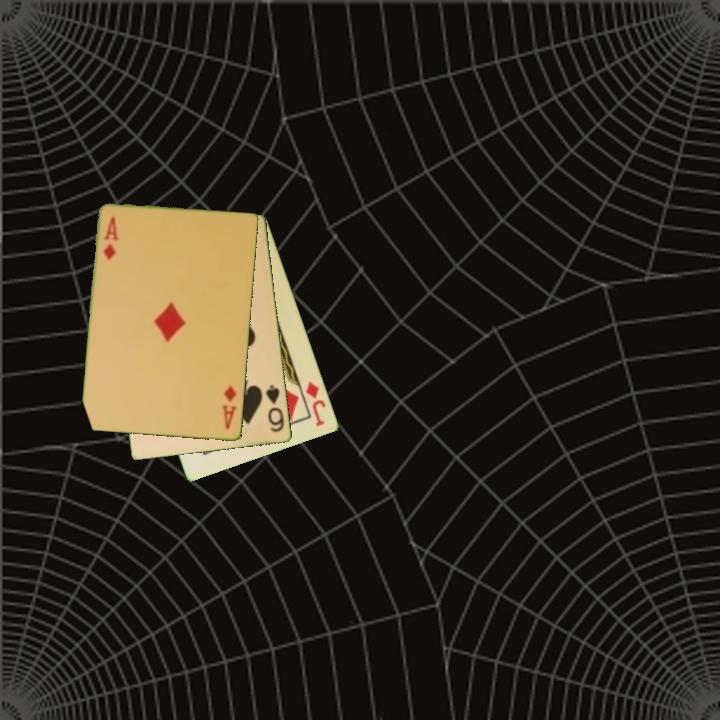6s: (262, 382, 287, 435)
Ad: (219, 382, 240, 432), (100, 213, 121, 263)
Jd: (303, 378, 329, 429)
